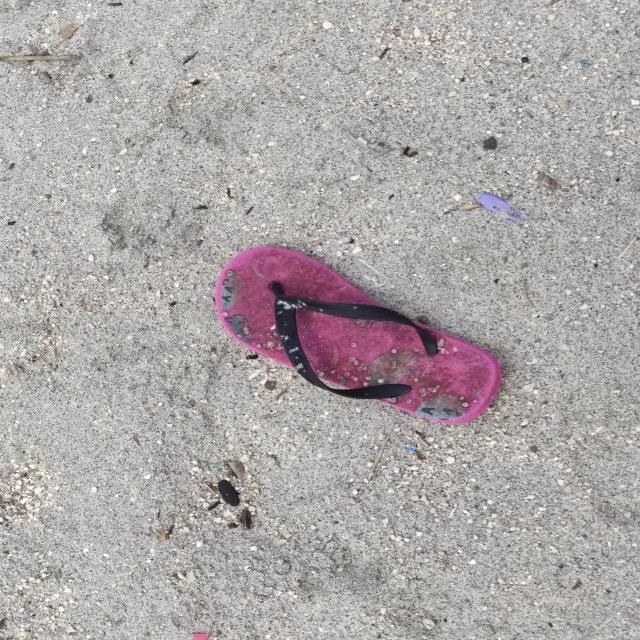rubber_waste: (216, 247, 502, 426)
